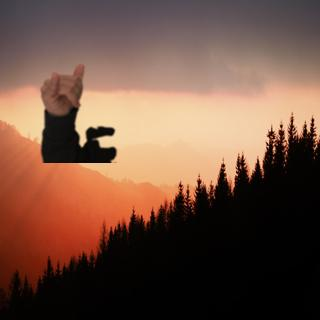HAVE: (39, 61, 94, 123)
